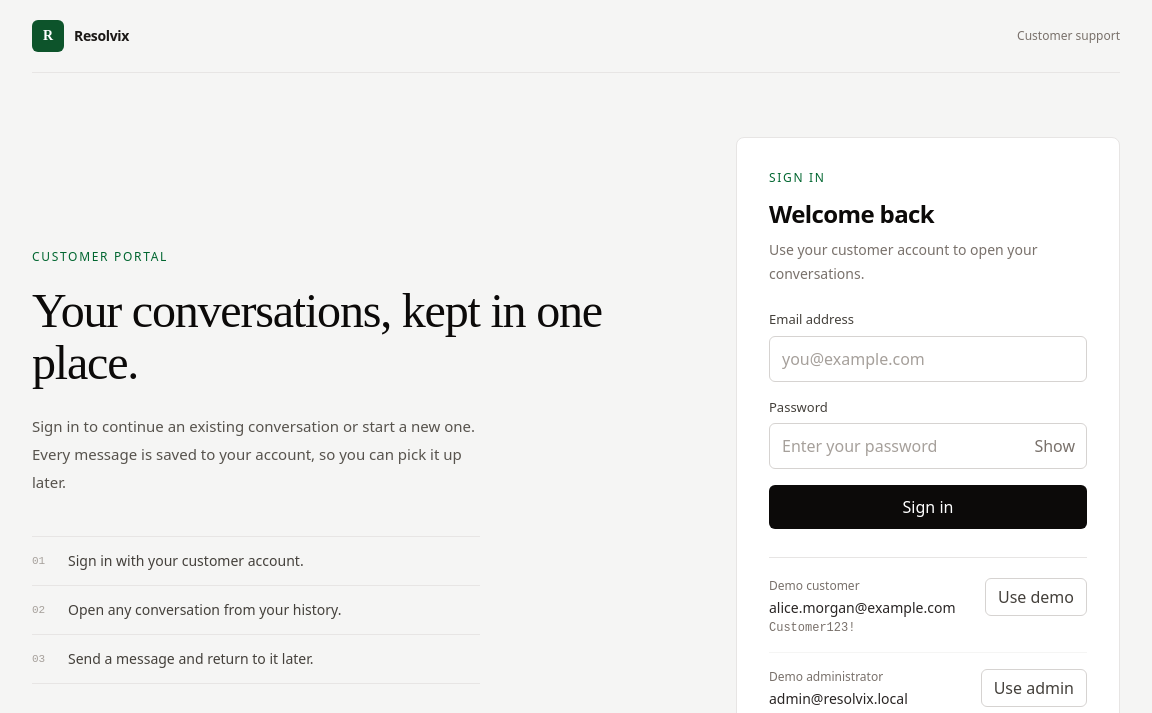
Test: Login › shows the backend error when credentials are rejected
Type "alice.morgan@example.com" into the field labelled "Email address". click: (928, 358)
box: [769,336,1087,382]
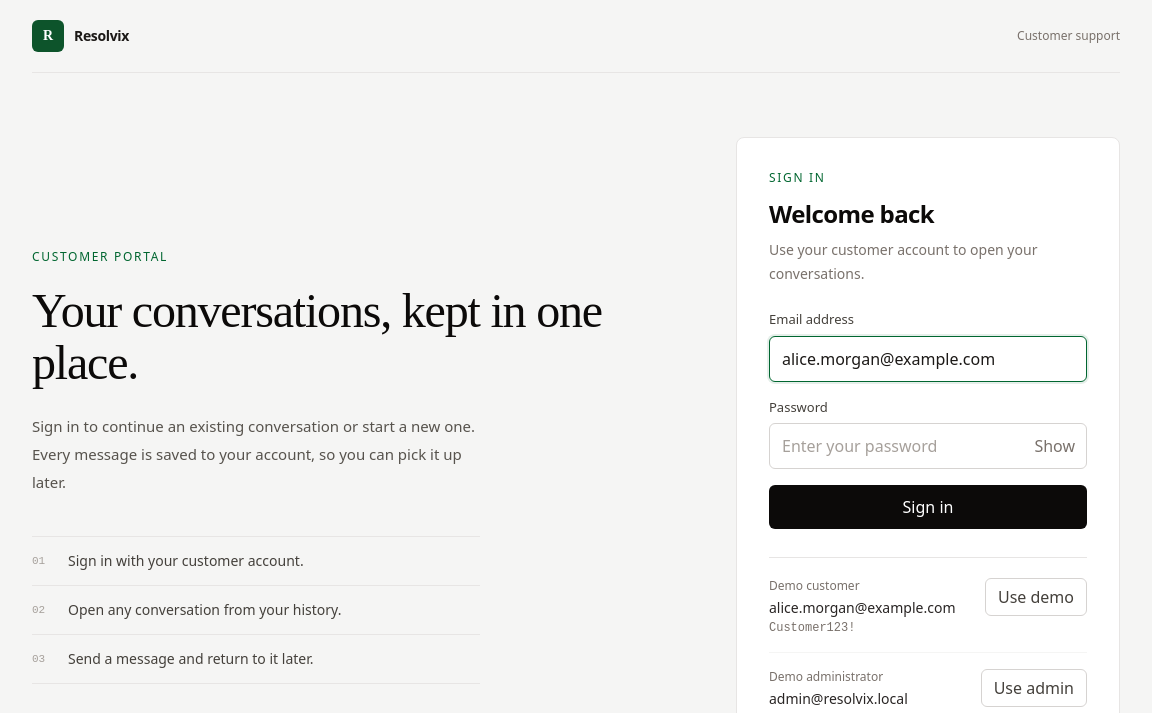
Type "wrong-password" into the password field labelled "Password". click: (928, 446)
box: [769,423,1087,469]
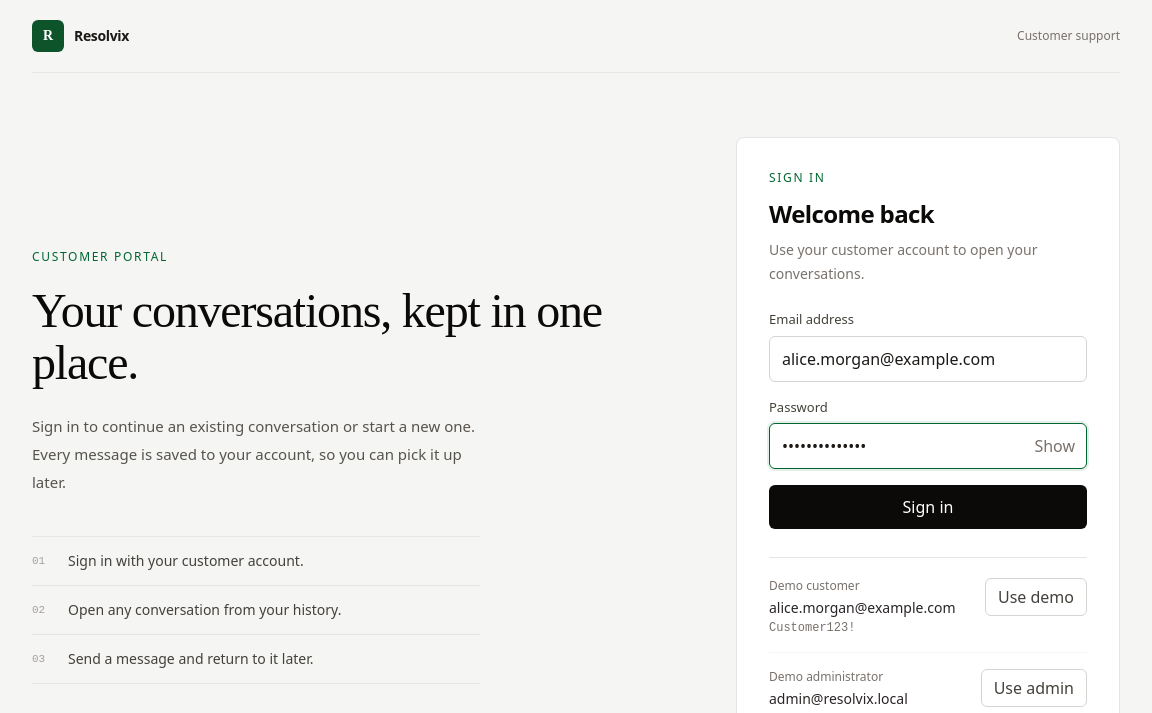
Click the button "Sign in". click: (928, 507)
box: [769,485,1087,529]
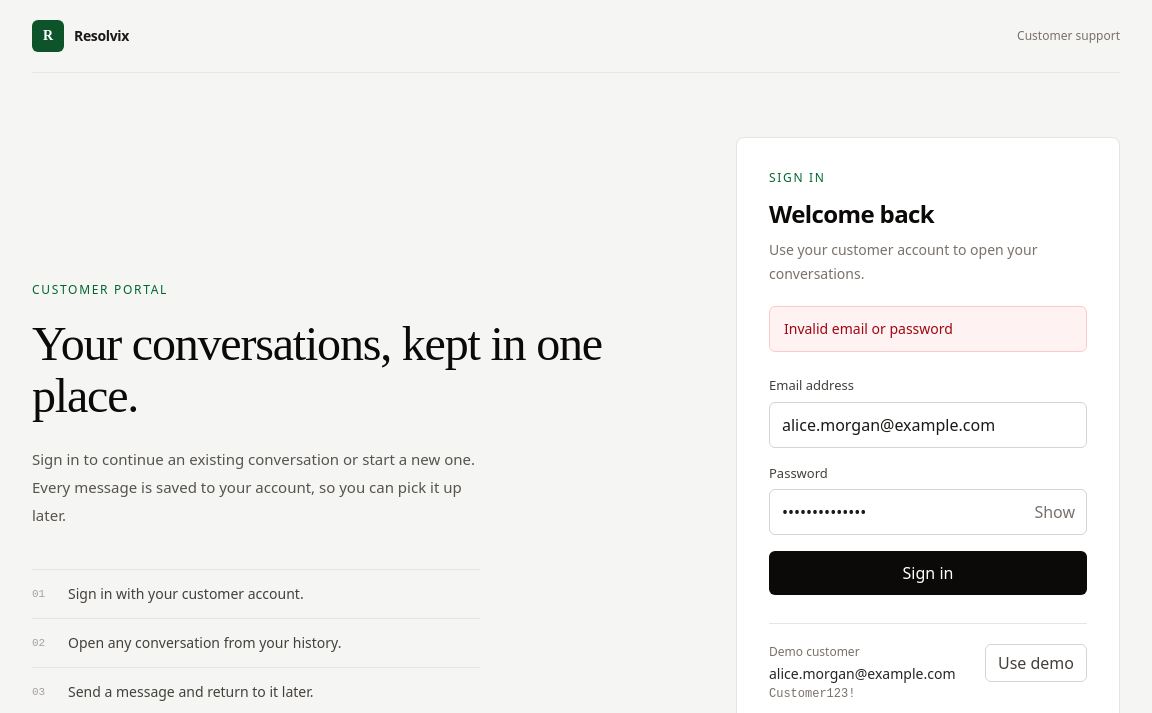
Expected: the message reads "Invalid email or password", [784,319,953,338]
